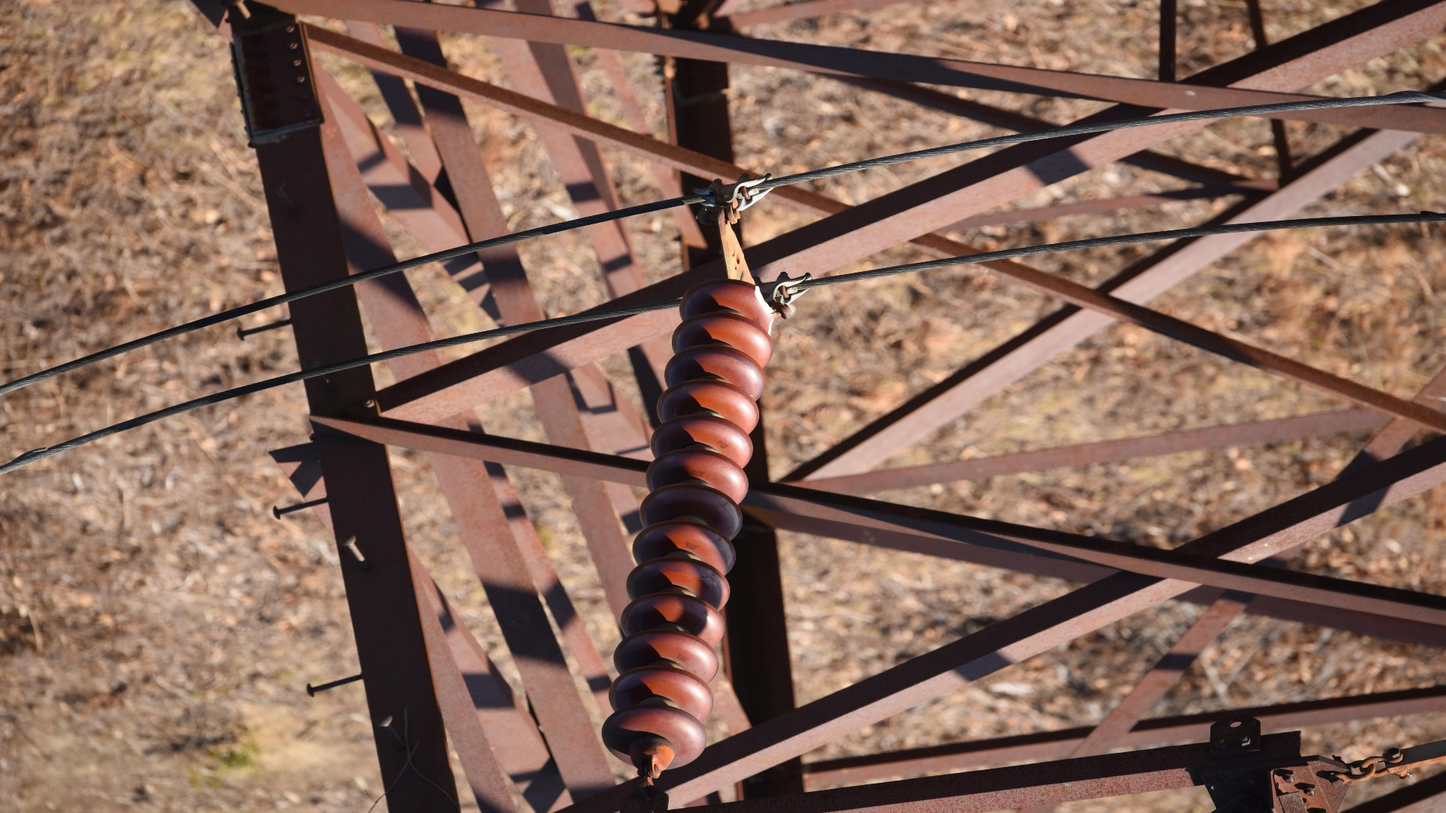insulator: (599, 276, 782, 773)
insulator_breakage: (751, 282, 777, 336)
